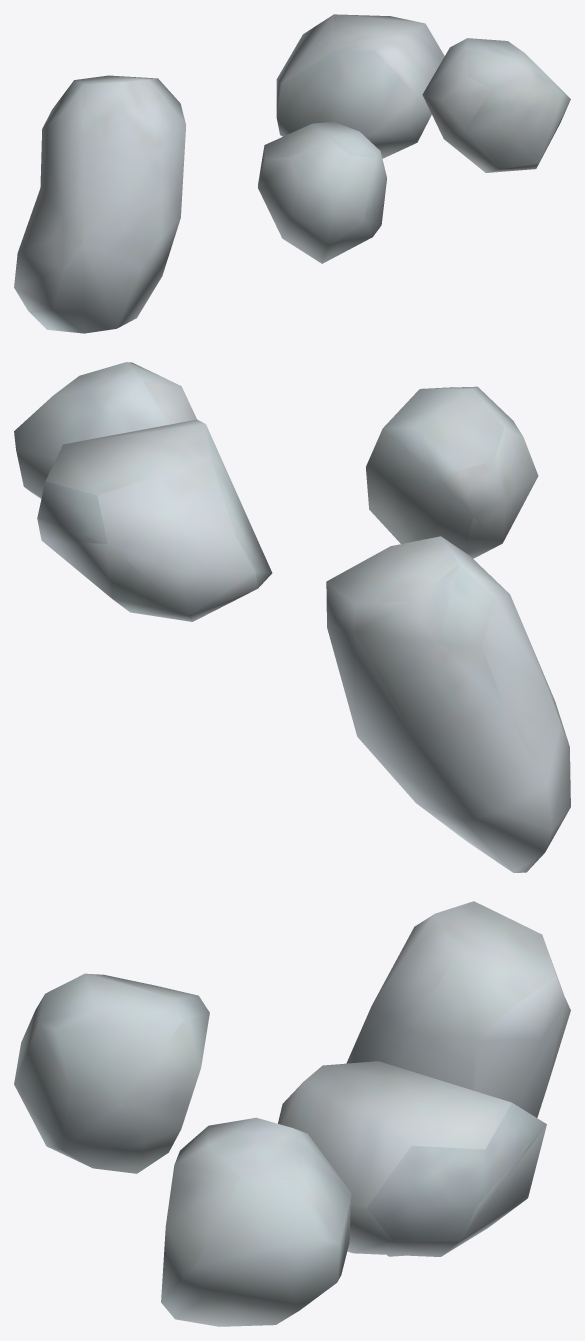
File: P_RockClumpClassic1.obj
The picture shows the model from 3 angles, top to bottom: view 1: azimuth 30°, elevation 25°; view 2: azimuth 150°, elevation 25°; view 3: azimuth 270°, elevation 25°; orthographic projection. The views are drawn at different scales.
Size of the model in its own units: 1.19 by 0.5917 by 0.8048.
